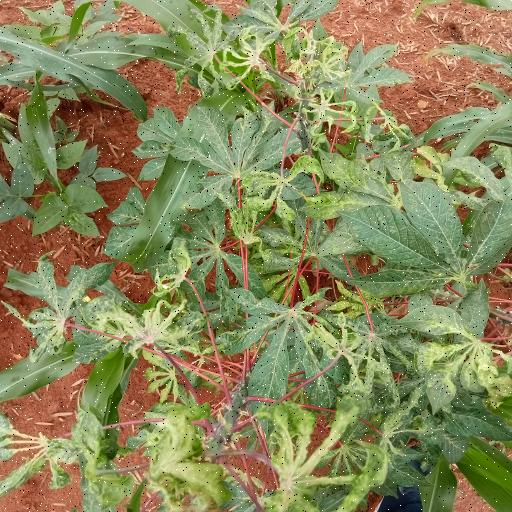Cassava_Mosaic: (240, 398, 380, 512), (180, 101, 306, 200), (6, 256, 115, 352), (415, 338, 512, 420), (309, 321, 411, 397)
